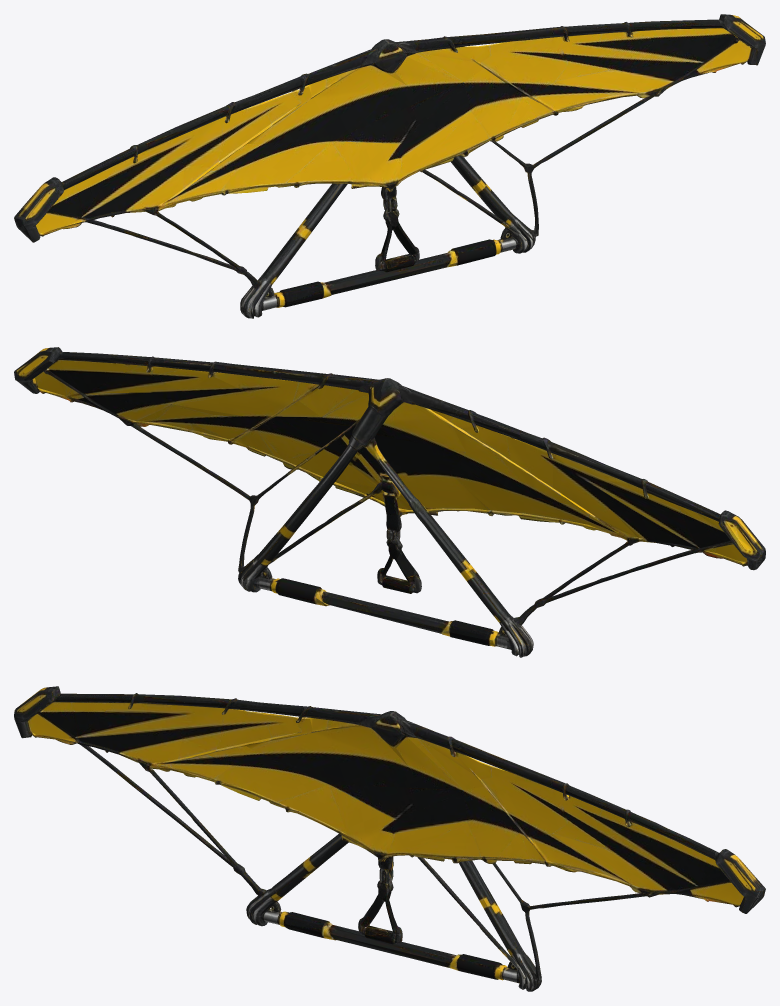
Rendered from Hang_Glider.glb.
3 renders of one model, top to bottom at view 1: azimuth 30°, elevation 25°; view 2: azimuth 150°, elevation 25°; view 3: azimuth 330°, elevation 25°, orthographic.
Size of the model in its own units: 1.9 by 0.5966 by 0.1044.
1 material, 1 textured.
